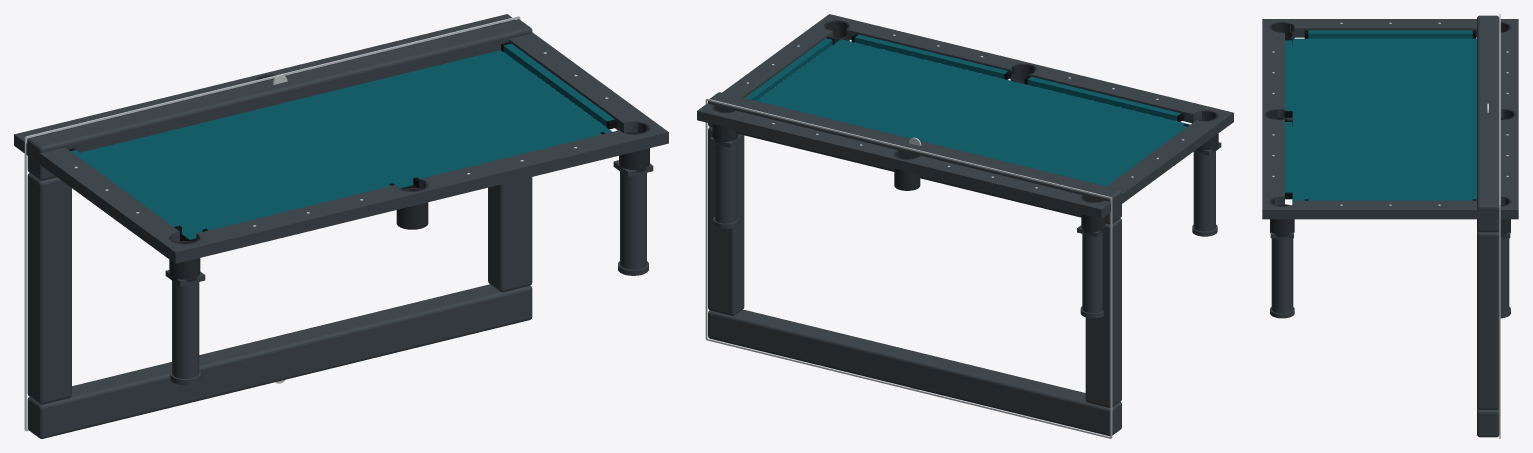
Rendered from table_b.glb.
The picture shows the model from 3 angles, left to right: view 1: azimuth 30°, elevation 25°; view 2: azimuth 150°, elevation 25°; view 3: azimuth 270°, elevation 25°; orthographic projection. The views are drawn at different scales.
Parts seen in each view (by area): view 1: SM_Apron, SM_Cloth, SM_Rails, SM_Legs, SM_Cushions, SM_PocketWells, SM_ApronReveal; view 2: SM_Apron, SM_Cloth, SM_Rails, SM_Legs, SM_Cushions, SM_ApronReveal, SM_PocketWells; view 3: SM_Cloth, SM_Rails, SM_Apron, SM_Cushions, SM_Legs, SM_PocketWells, SM_ApronReveal, SM_Facings.
Part boxes in pixels (box(x1,y1,x2,y2)): SM_Apron: box(27, 19, 532, 438); SM_Cloth: box(80, 50, 612, 239); SM_Rails: box(14, 14, 668, 263); SM_Legs: box(165, 160, 653, 385); SM_Cushions: box(71, 43, 614, 230); SM_PocketWells: box(33, 22, 649, 282); SM_ApronReveal: box(24, 16, 520, 431); SM_Apron: box(708, 92, 1121, 436); SM_Cloth: box(757, 39, 1190, 185); SM_Rails: box(697, 14, 1233, 218); SM_Legs: box(709, 134, 1221, 318); SM_Cushions: box(745, 34, 1187, 186); SM_ApronReveal: box(705, 98, 1112, 438); SM_PocketWells: box(712, 20, 1218, 233); SM_Cloth: box(1292, 38, 1476, 204); SM_Rails: box(1262, 19, 1518, 219); SM_Apron: box(1477, 15, 1499, 437); SM_Cushions: box(1285, 30, 1472, 200); SM_Legs: box(1270, 117, 1510, 318); SM_PocketWells: box(1265, 22, 1515, 236); SM_ApronReveal: box(1499, 14, 1500, 438); SM_Facings: box(1284, 30, 1476, 200).
Bounding box in the file's own units: 2.94 × 1.75 × 1.66.
